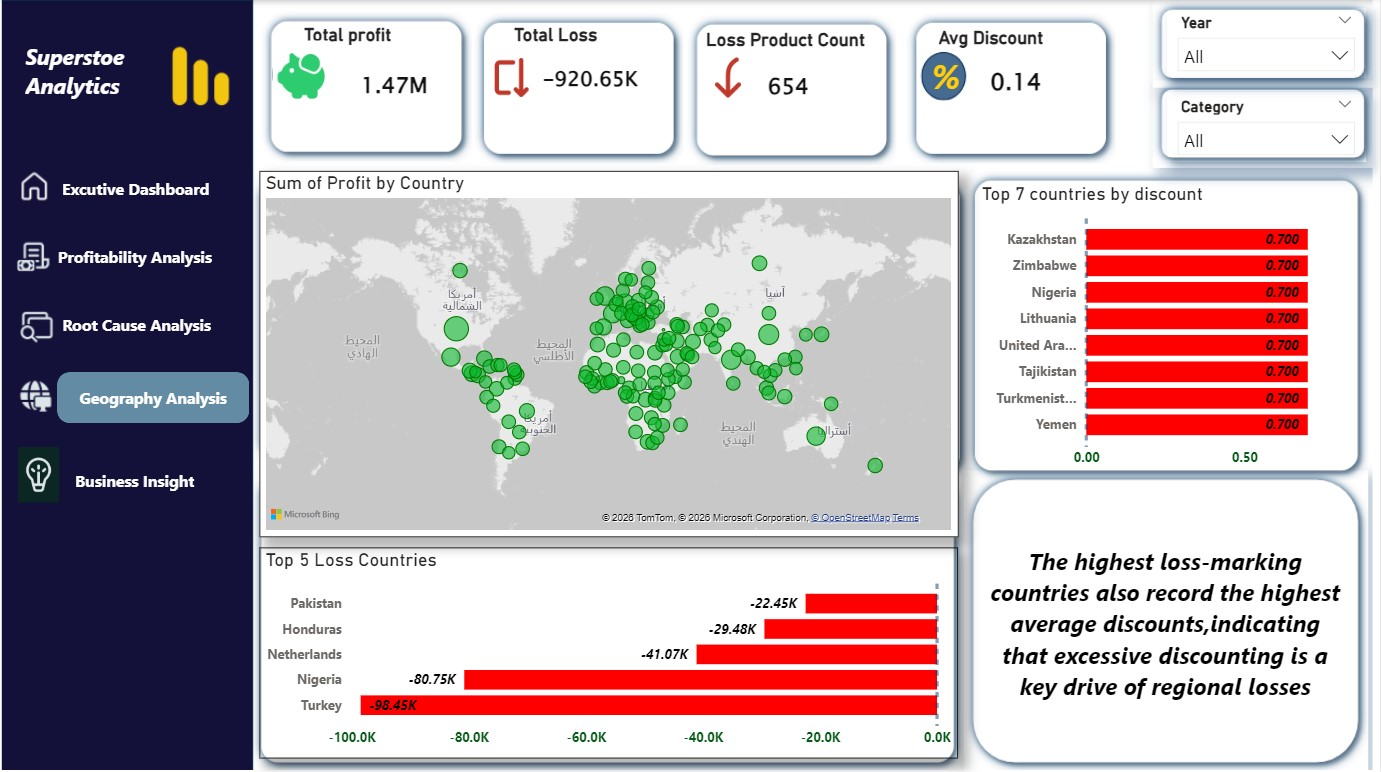

This screenshot's page, from the dashboard's own definition file:
{"tool":"powerbi","page":{"name":"Geography Analysis","canvas":[1280,720],"ordinal":3},"visuals":[{"type":"shape","box":[24.6,153.1,211.7,47.2],"z":0},{"type":"shape","box":[28.3,279.7,207.9,45.4],"z":1000},{"type":"shape","box":[58.6,345.8,177.6,47.2],"z":2000},{"type":"shape","box":[22.7,423.3,215.4,45.4],"z":3000},{"type":"shape","box":[18.9,215.4,221.1,47.2],"z":4000},{"type":"shape","box":[23.3,36.7,185,71.7],"z":5000},{"type":"cardVisual","title":"Total profit","fields":{"Data":["measuress.total profit"]},"box":[281.6,24.6,177.6,92.6],"z":6000},{"type":"cardVisual","title":"Total Loss","fields":{"Data":["measuress.Total Loss"]},"box":[474.3,24.6,151.2,81.3],"z":7000},{"type":"cardVisual","title":"Loss Product Count","fields":{"Data":["measuress.loss product count"]},"box":[655.8,28.3,162.5,86.9],"z":8000},{"type":"map","fields":{"Category":["Dim_geography.Country"],"Size":["Sum(Fact_sales.Profit)"]},"box":[245.3,160.5,645.1,337.7],"z":9000},{"type":"clusteredBarChart","title":"Top 7 countries by discount","fields":{"Category":["Dim_geography.Country"],"Y":["Avg(Fact_sales.Discount)"]},"box":[906.7,171.7,351.7,271.7],"z":10000},{"type":"clusteredBarChart","title":"Top 5 Loss Countries","fields":{"Y":["Sum(Fact_sales.Profit)"],"Category":["Dim_geography.Country"]},"box":[245.7,508.4,644.4,194.6],"z":11000},{"type":"slicer","fields":{"Values":["Date.Year"]},"box":[1082.7,9.1,183.2,65.1],"z":12000},{"type":"slicer","fields":{"Values":["Dim_product.Category"]},"box":[1082.7,87.8,183.2,65.1],"z":13000},{"type":"image","box":[22.7,415.8,37.8,51],"z":14000},{"type":"image","box":[256.9,39.8,51.8,63.7],"z":15000},{"type":"image","box":[454.1,45.8,47.8,57.8],"z":16000},{"type":"image","box":[653.3,45.8,47.8,57.8],"z":17000},{"type":"cardVisual","title":"Avg Discount","fields":{"Data":["Avg(Fact_sales.Discount)"]},"box":[867.4,28.3,153.1,81.3],"z":18000},{"type":"shape","box":[905.5,448.2,351.3,257.4],"z":19000},{"type":"shape","box":[852.3,43.5,51,58.6],"z":19001}]}

Visuals, with their boxes in screenshot pixels (x1, y1, x2, y2), scaled from the page's 1280x720 canvas onto the 1381x772 screenshot:
shape: crop(27, 164, 255, 215)
shape: crop(31, 300, 255, 349)
shape: crop(63, 371, 255, 421)
shape: crop(24, 454, 257, 503)
shape: crop(20, 231, 259, 282)
shape: crop(25, 39, 225, 116)
"Total profit" cardVisual: crop(304, 26, 495, 126)
"Total Loss" cardVisual: crop(512, 26, 675, 114)
"Loss Product Count" cardVisual: crop(708, 30, 883, 124)
map - Dim_geography.Country x Sum(Fact_sales.Profit): crop(265, 172, 961, 534)
"Top 7 countries by discount" clusteredBarChart: crop(978, 184, 1358, 475)
"Top 5 Loss Countries" clusteredBarChart: crop(265, 545, 960, 754)
slicer - Date.Year: crop(1168, 10, 1366, 80)
slicer - Dim_product.Category: crop(1168, 94, 1366, 164)
image: crop(24, 446, 65, 501)
image: crop(277, 43, 333, 111)
image: crop(490, 49, 542, 111)
image: crop(705, 49, 756, 111)
"Avg Discount" cardVisual: crop(936, 30, 1101, 118)
shape: crop(977, 481, 1356, 757)
shape: crop(920, 47, 975, 109)
